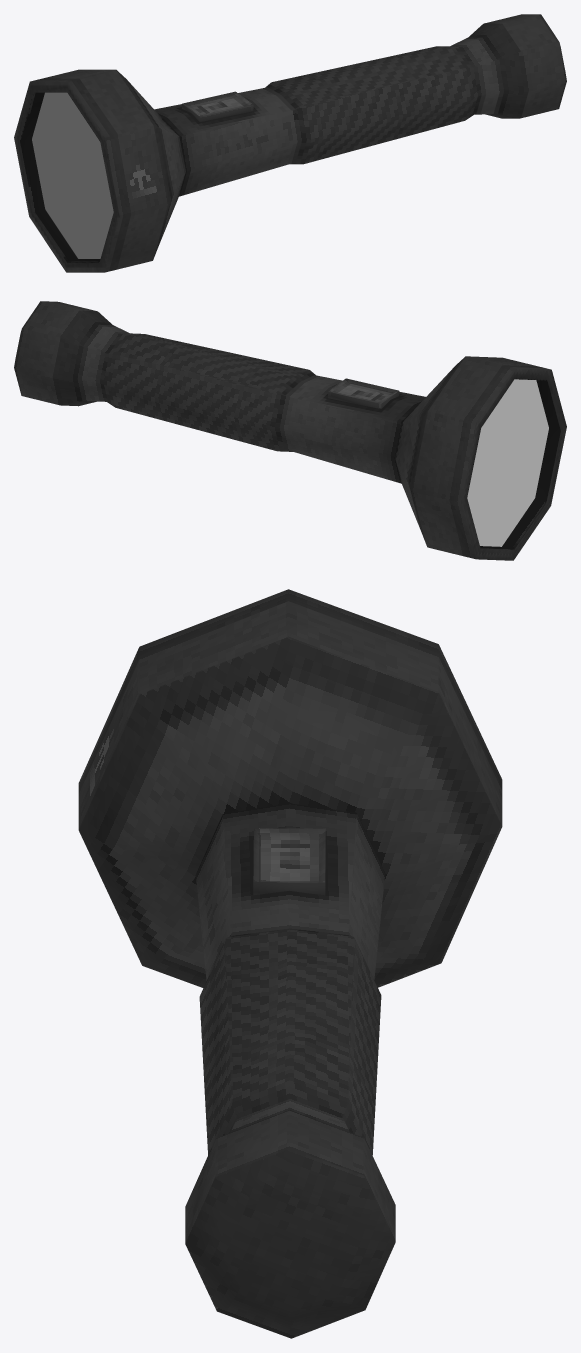
Rendered from flashlight.glb.
3 views of the same model, one above another, from view 1: azimuth 30°, elevation 25°; view 2: azimuth 150°, elevation 25°; view 3: azimuth 270°, elevation 25° (orthographic). The views are drawn at different scales.
Visible parts, largest first — view 1: Cube, Cube.001; view 2: Cube, Cube.001; view 3: Cube.
Boxes of the visible parts, left/top/right/bottom form: Cube: left=14, top=14, right=566, bottom=272; Cube.001: left=32, top=92, right=113, bottom=258; Cube: left=14, top=301, right=566, bottom=560; Cube.001: left=467, top=379, right=548, bottom=546; Cube: left=78, top=589, right=502, bottom=1338.
Bounding box in the file's own units: 11.03 × 4.19 × 4.19.
2 materials, 1 textured.
